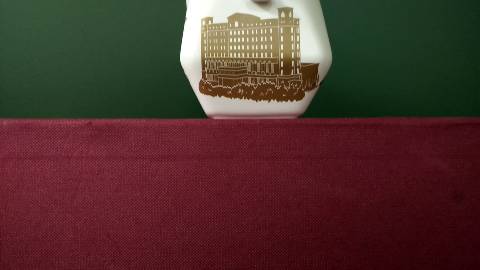law: (205, 20, 310, 98)
